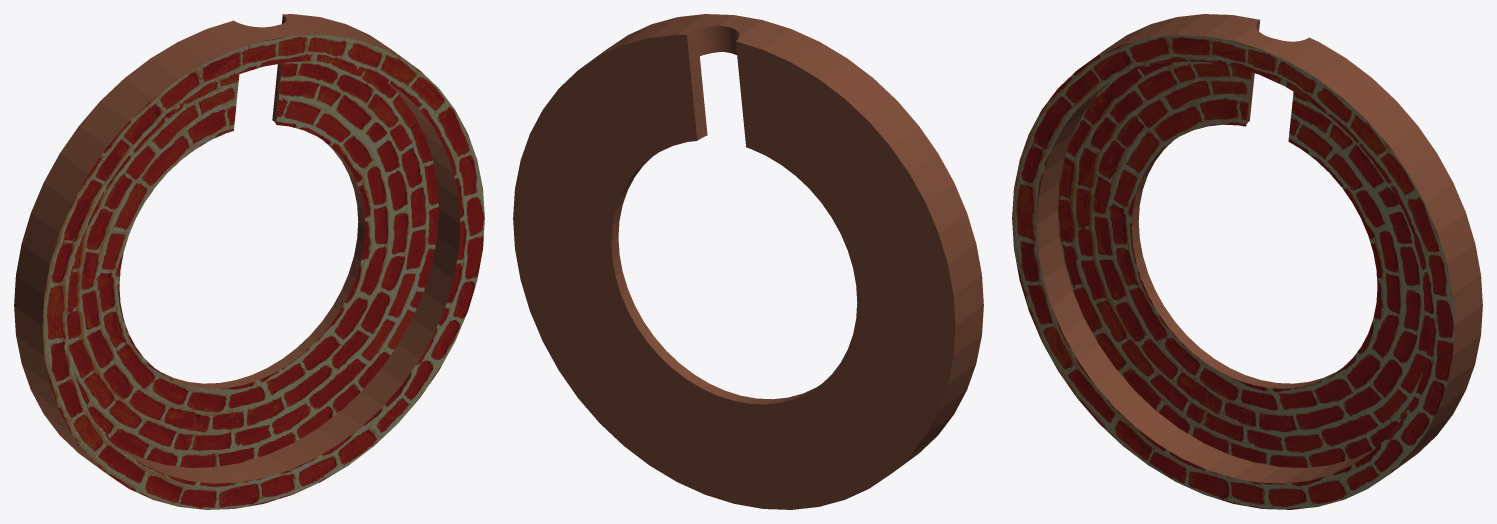
Rendered from pool_064.obj.
The picture shows the model from 3 angles, left to right: view 1: azimuth 30°, elevation 25°; view 2: azimuth 150°, elevation 25°; view 3: azimuth 330°, elevation 25°; orthographic projection.
Bounding box in the file's own units: 18 × 18 × 2.
